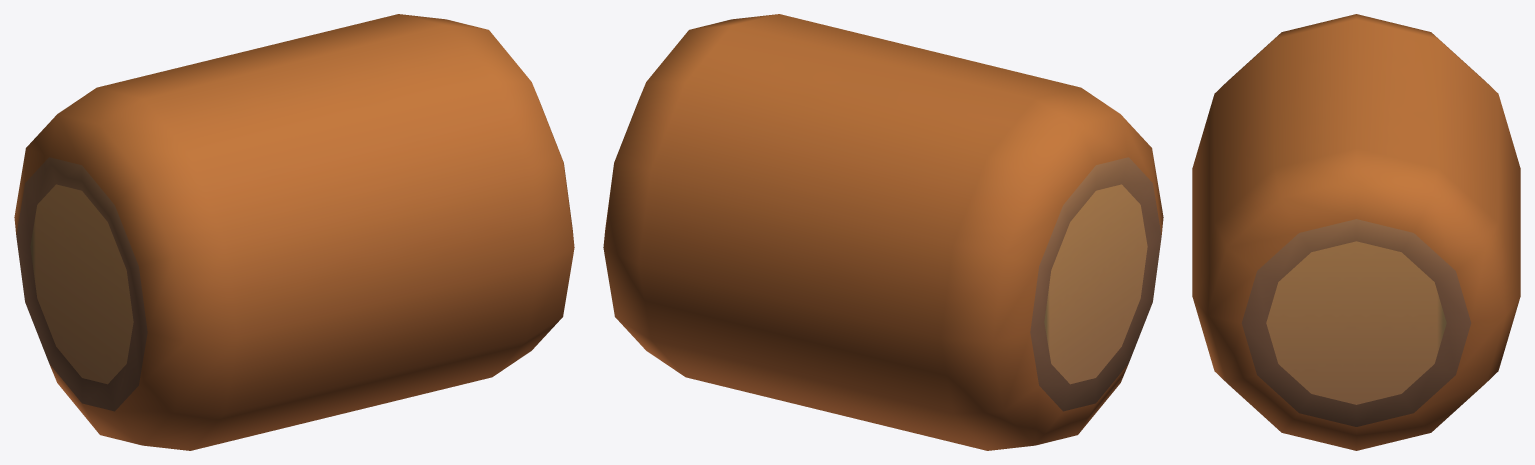
Rendered from Brown_Wood.fbx.
3 views of the same model, side by side, from view 1: azimuth 30°, elevation 25°; view 2: azimuth 150°, elevation 25°; view 3: azimuth 270°, elevation 25° (orthographic). The views are drawn at different scales.
Parts seen in each view (by area): view 1: Brown_Wood; view 2: Brown_Wood; view 3: Brown_Wood.
Part boxes in pixels (x1=…): Brown_Wood: x1=14, y1=14, x2=574, y2=450; Brown_Wood: x1=603, y1=14, x2=1163, y2=450; Brown_Wood: x1=1192, y1=14, x2=1520, y2=450.
Bounding box in the file's own units: 0.9486 × 0.7256 × 0.7256.
